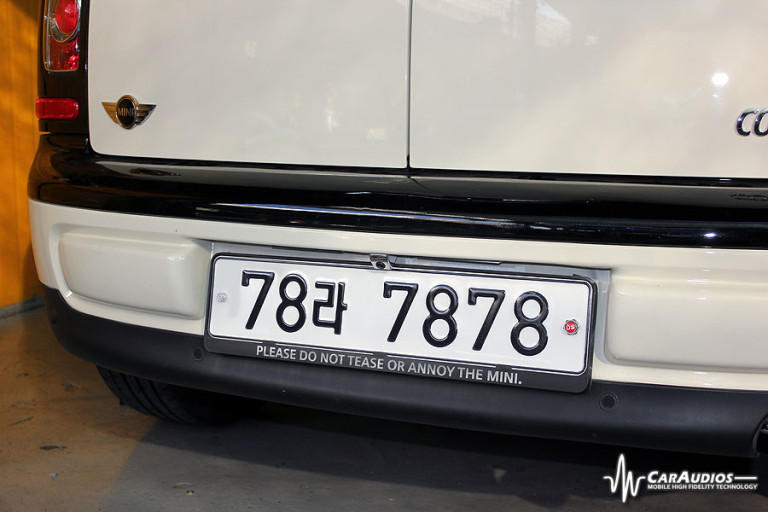car: (195, 256, 615, 384)
